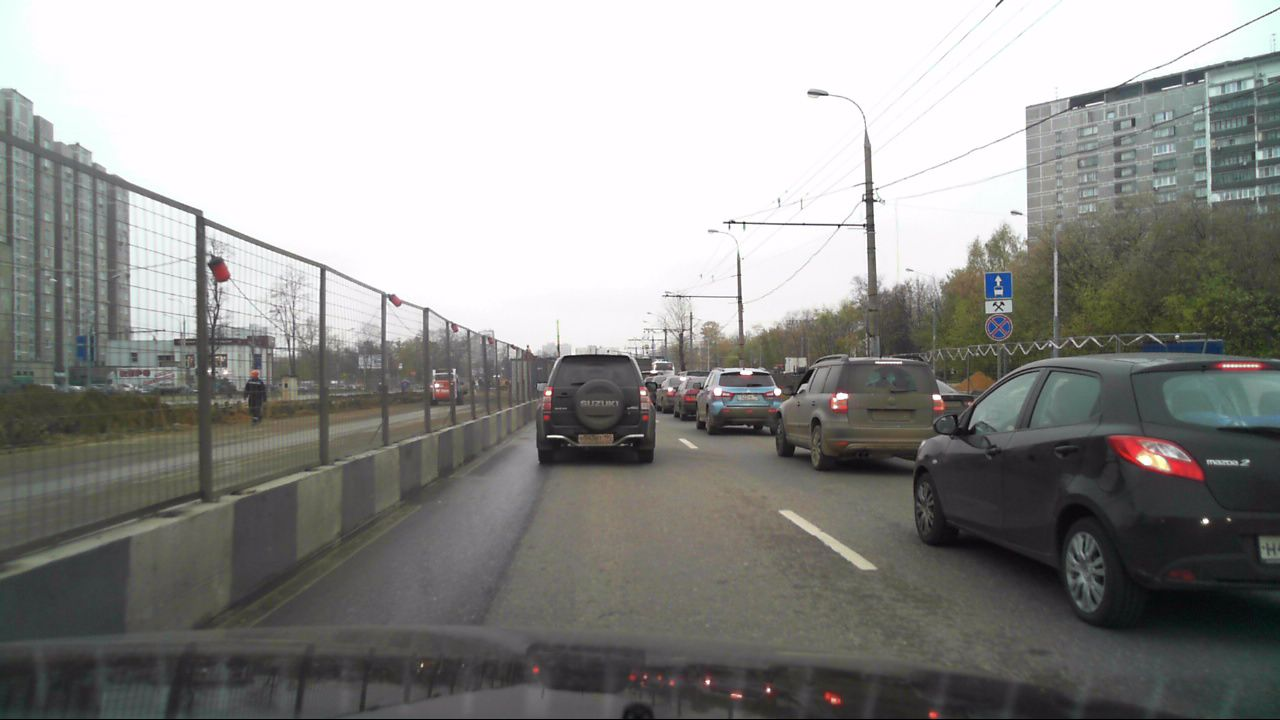No Parking: (985, 314, 1012, 339)
